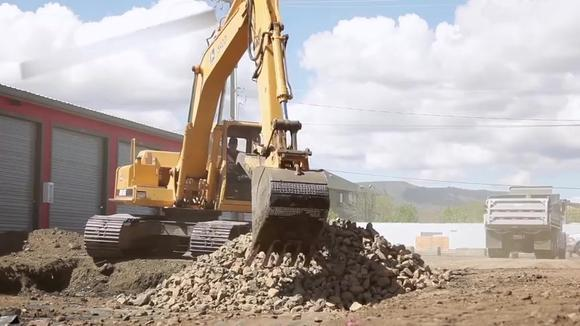excavator: (76, 3, 333, 268)
